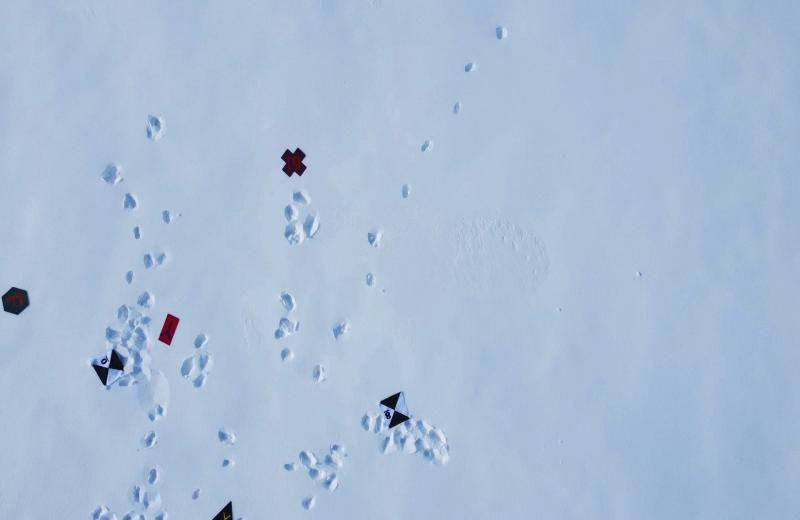Cross: (276, 142, 309, 182)
Hexagon: (0, 284, 34, 320)
Rectangle: (158, 310, 182, 350)
Triangle: (201, 488, 237, 520)
